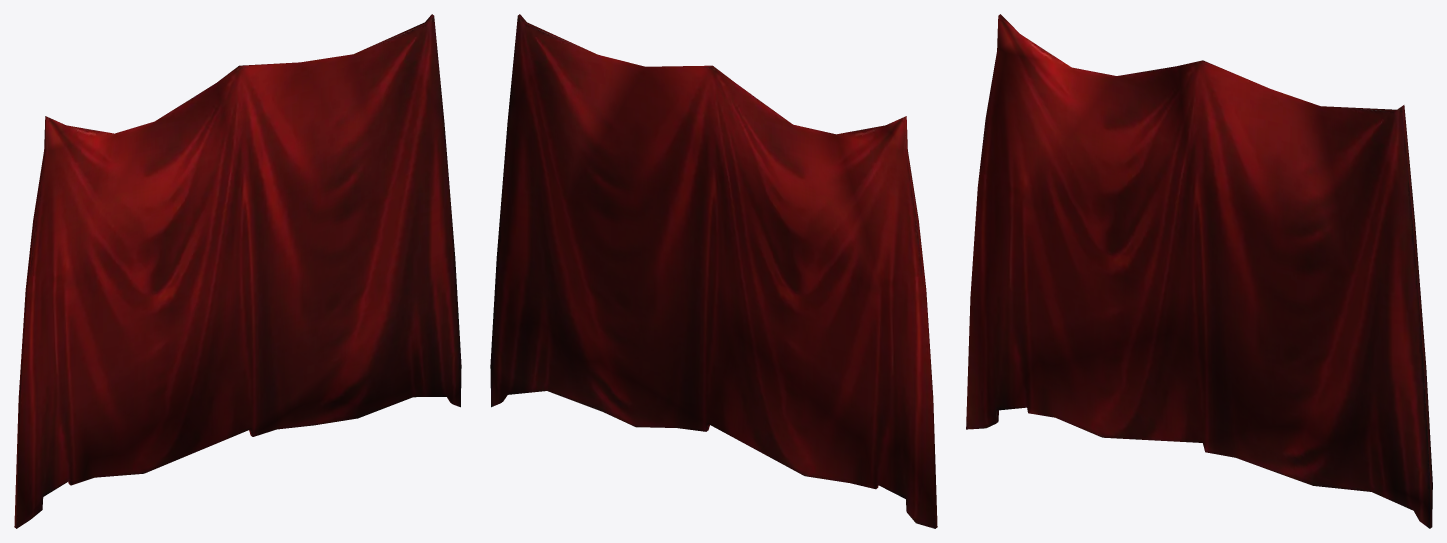
File: KM_VOB_CURTAIN_01.glb
The picture shows the model from 3 angles, left to right: view 1: azimuth 30°, elevation 25°; view 2: azimuth 150°, elevation 25°; view 3: azimuth 330°, elevation 25°; orthographic projection. The views are drawn at different scales.
Visible parts, largest first — view 1: Mesh; view 2: Mesh; view 3: Mesh.
Boxes of the visible parts, bbox=[...] form: Mesh: bbox=[14, 14, 461, 528]; Mesh: bbox=[490, 14, 937, 528]; Mesh: bbox=[966, 14, 1432, 528].
Bounding box in the file's own units: 2.6 × 2.3 × 0.1053.
1 material, 1 textured.
